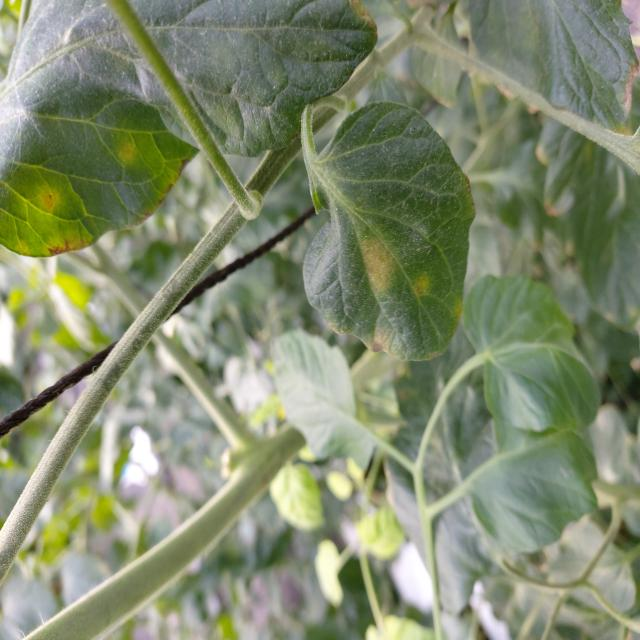Leaf Mold: (1, 1, 379, 261), (304, 100, 478, 366)
